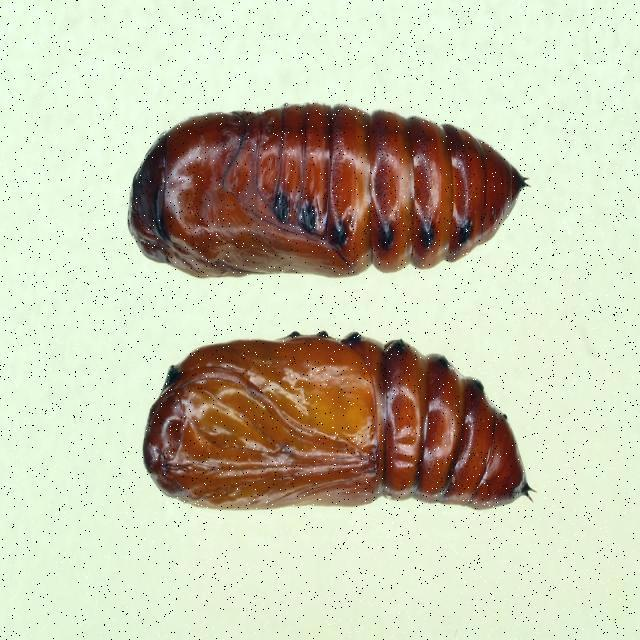army worm: (114, 281, 575, 553), (76, 82, 579, 321)
